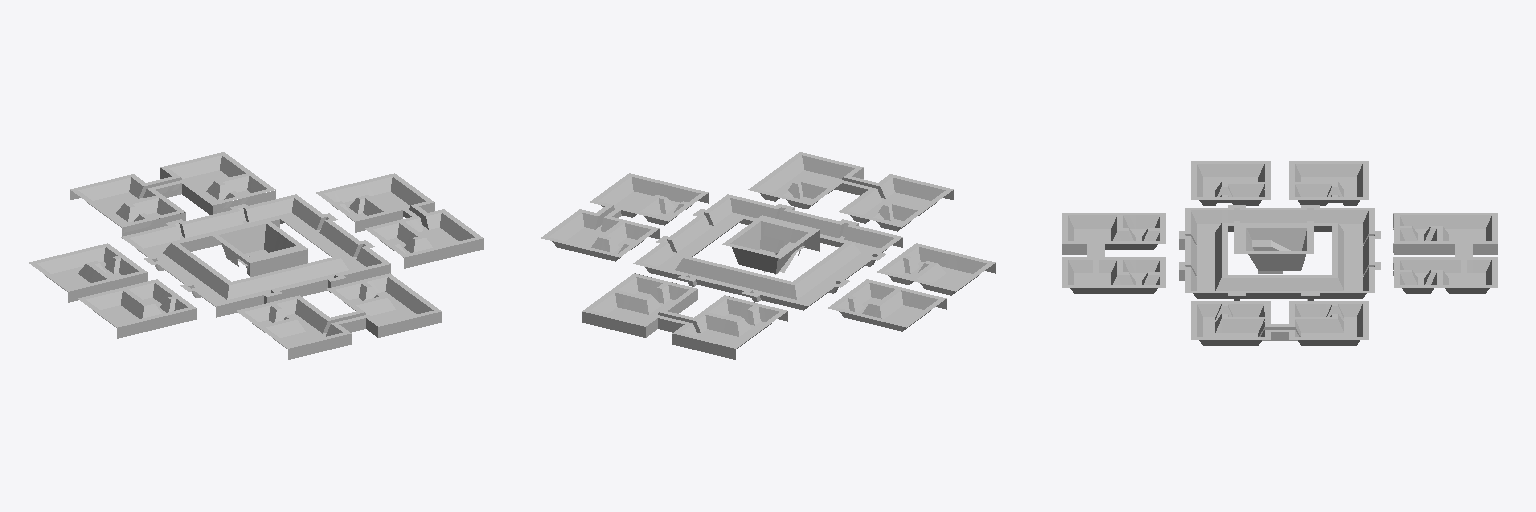
File: hotelRooms.obj
3 views of the same model, side by side, from view 1: azimuth 30°, elevation 25°; view 2: azimuth 150°, elevation 25°; view 3: azimuth 270°, elevation 25° (orthographic).
Visible parts, largest first — view 1: mesh.RoomsHotel_Plane005, meshHallwayHotel_Plane003; view 2: mesh.RoomsHotel_Plane005, meshHallwayHotel_Plane003; view 3: mesh.RoomsHotel_Plane005, meshHallwayHotel_Plane003.
Boxes of the visible parts, x1=… form: mesh.RoomsHotel_Plane005: x1=29, y1=152, x2=483, y2=359; meshHallwayHotel_Plane003: x1=121, y1=194, x2=390, y2=317; mesh.RoomsHotel_Plane005: x1=541, y1=152, x2=995, y2=359; meshHallwayHotel_Plane003: x1=633, y1=194, x2=902, y2=310; mesh.RoomsHotel_Plane005: x1=1062, y1=161, x2=1497, y2=345; meshHallwayHotel_Plane003: x1=1179, y1=205, x2=1380, y2=300.
Bounding box in the file's own units: 69 × 6 × 71.03.